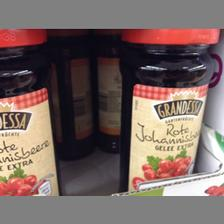Marmelade: (116, 28, 220, 192), (0, 28, 62, 194), (48, 29, 96, 159)
